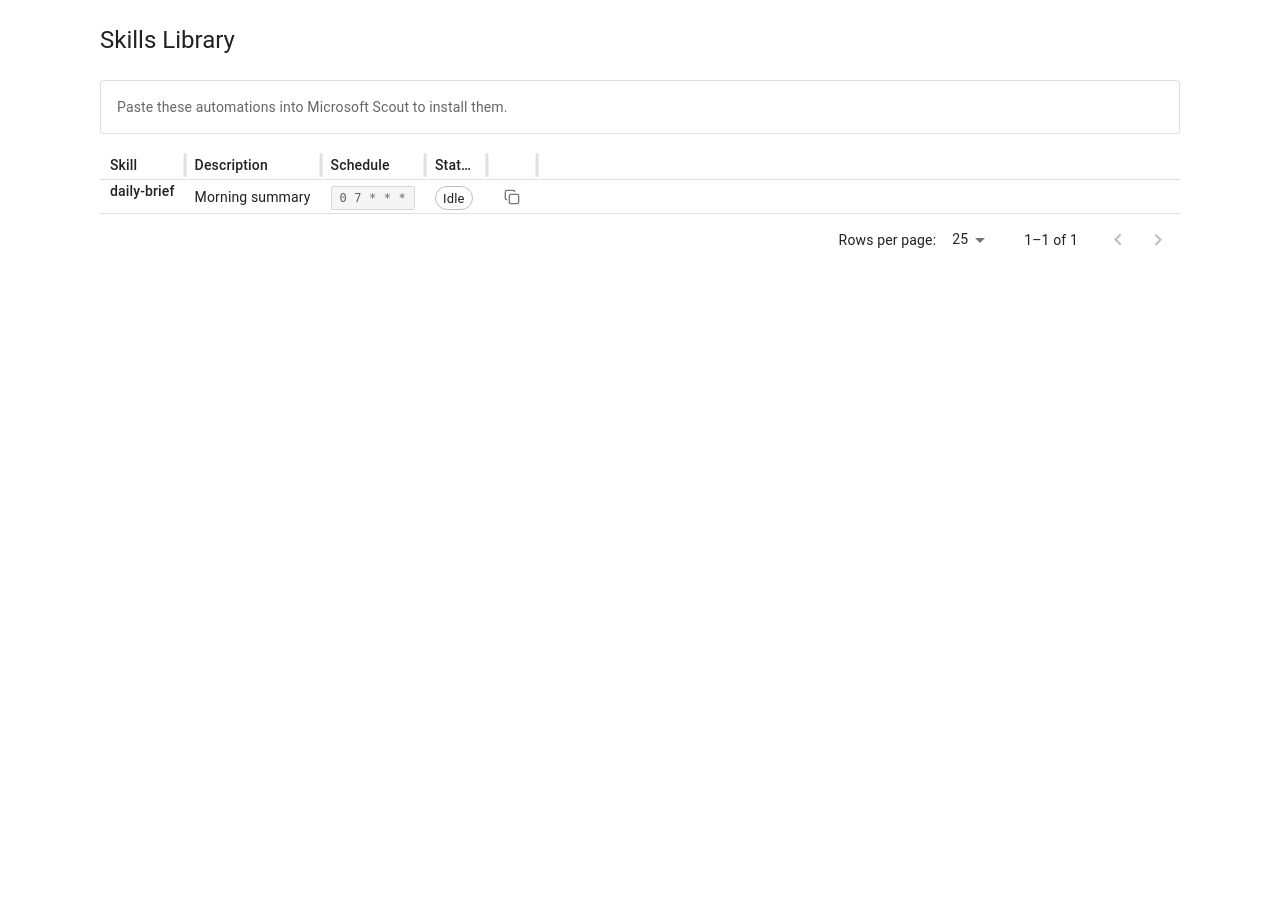
Test case: SkillsView › opens a detail modal with full body on row click
Click the text "daily-brief": (142, 191) [110,181,175,201]
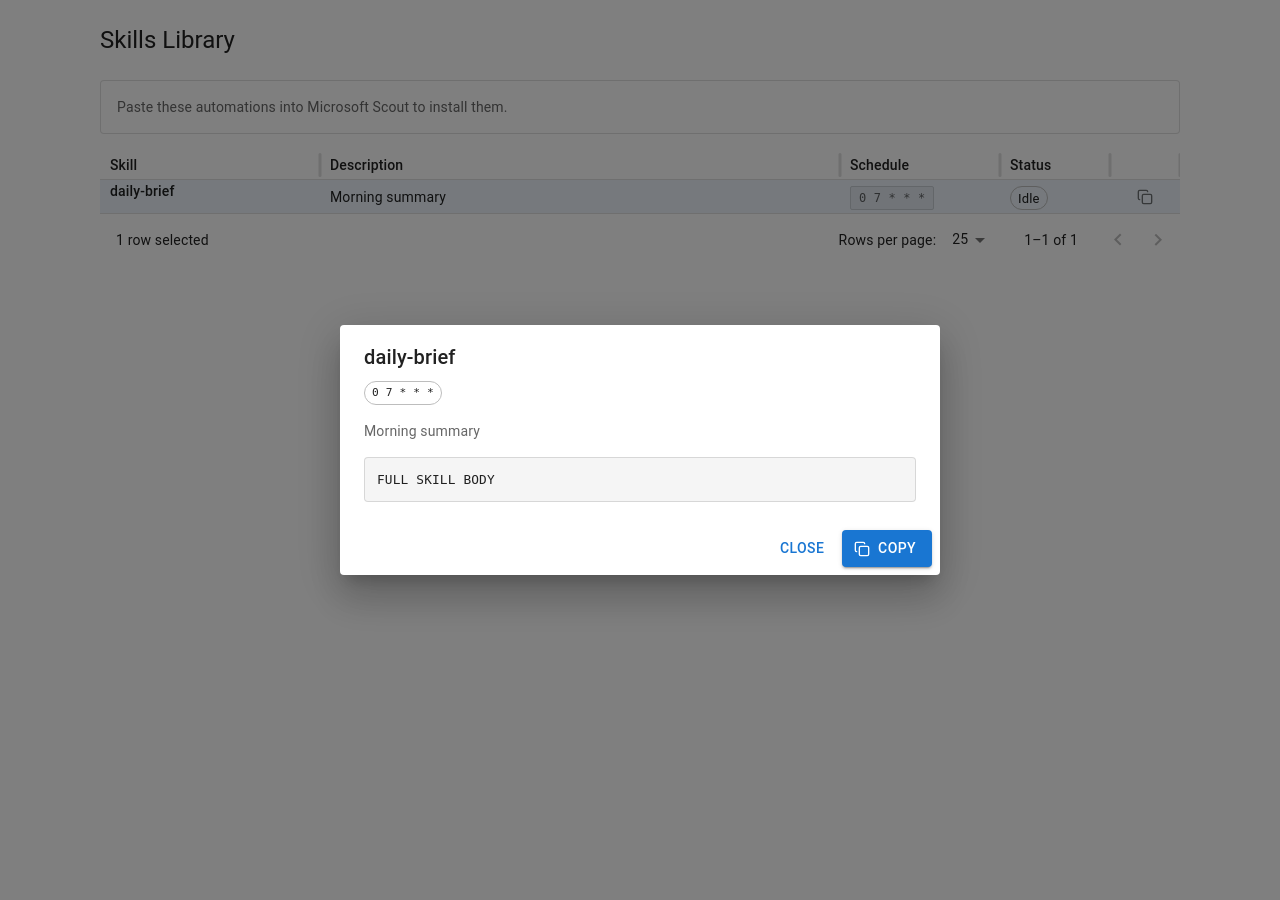
expect the text "FULL SKILL BODY" is shown: met, box [364,457,916,502]
expect the button "Close" is shown: met, box [770,530,834,567]
